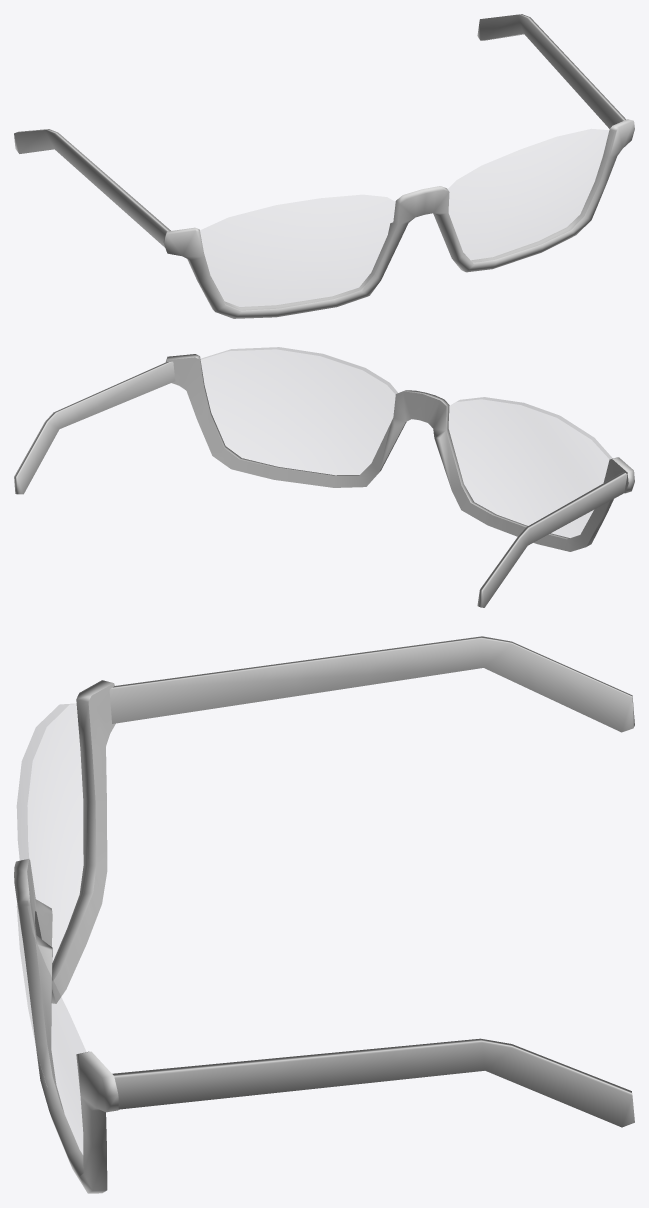
The model's file is p0_eyw1002_00_eyw00.gltf.
3 renders of one model, top to bottom at view 1: azimuth 30°, elevation 25°; view 2: azimuth 150°, elevation 25°; view 3: azimuth 270°, elevation 25°, orthographic. The views are drawn at different scales.
Parts seen in each view (by area): view 1: eyw00_frame_mesh_shape:eyewear, eyw00_temple_mesh_shape:eyewear; view 2: eyw00_frame_mesh_shape:eyewear, eyw00_temple_mesh_shape:eyewear, eyw00_lens_mesh_shape:eyewear; view 3: eyw00_temple_mesh_shape:eyewear, eyw00_frame_mesh_shape:eyewear, eyw00_lens_mesh_shape:eyewear.
Part boxes in pixels (bbox=[...]): eyw00_frame_mesh_shape:eyewear: bbox=[163, 119, 634, 318]; eyw00_temple_mesh_shape:eyewear: bbox=[14, 14, 625, 247]; eyw00_frame_mesh_shape:eyewear: bbox=[166, 354, 634, 551]; eyw00_temple_mesh_shape:eyewear: bbox=[14, 361, 627, 607]; eyw00_lens_mesh_shape:eyewear: bbox=[200, 347, 612, 458]; eyw00_temple_mesh_shape:eyewear: bbox=[109, 636, 634, 1127]; eyw00_frame_mesh_shape:eyewear: bbox=[14, 680, 118, 1193]; eyw00_lens_mesh_shape:eyewear: bbox=[17, 703, 78, 1106].
Size of what is drawn, in the model's own units: 0.2045 by 0.051 by 0.1319.
Materials: 1 (1 with a texture image).
